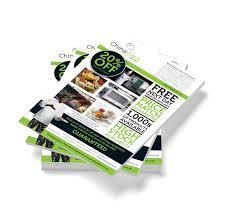Printing industry: (18, 24, 205, 195)
